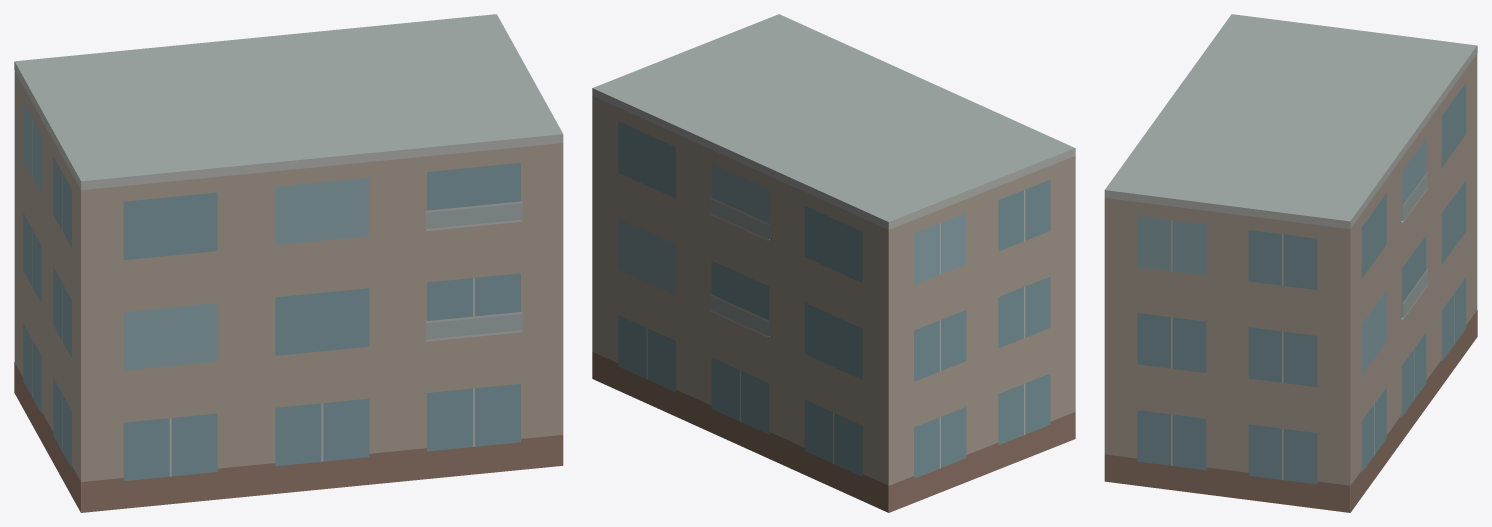
The model's file is survey-upis-32494826.glb.
3 renders of one model, left to right at view 1: azimuth 30°, elevation 25°; view 2: azimuth 150°, elevation 25°; view 3: azimuth 270°, elevation 25°, orthographic. The views are drawn at different scales.
Parts seen in each view (by area): view 1: survey-upis-32494826.tmp; view 2: survey-upis-32494826.tmp; view 3: survey-upis-32494826.tmp.
Boxes of the visible parts, <box> form: survey-upis-32494826.tmp: <box>14,14,563,512</box>; survey-upis-32494826.tmp: <box>592,14,1075,512</box>; survey-upis-32494826.tmp: <box>1104,14,1477,512</box>.
Size of the model in its own units: 13.97 by 9.15 by 10.61.
